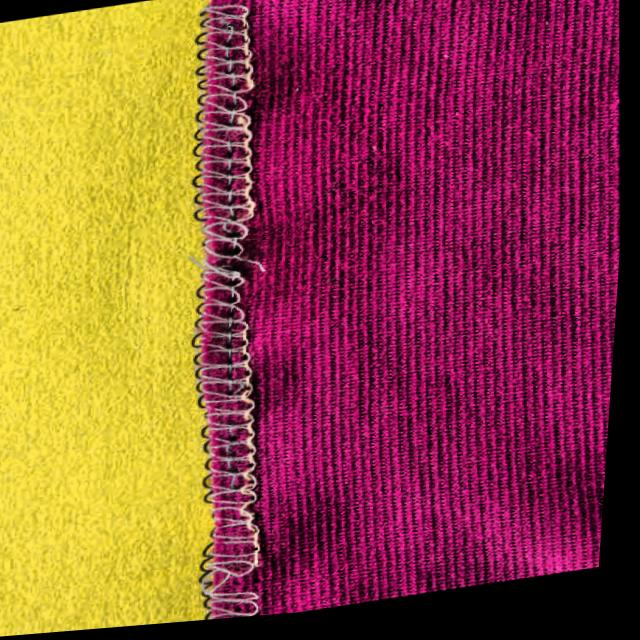Stitch: (192, 205, 299, 342), (197, 544, 288, 625), (193, 0, 264, 67)
